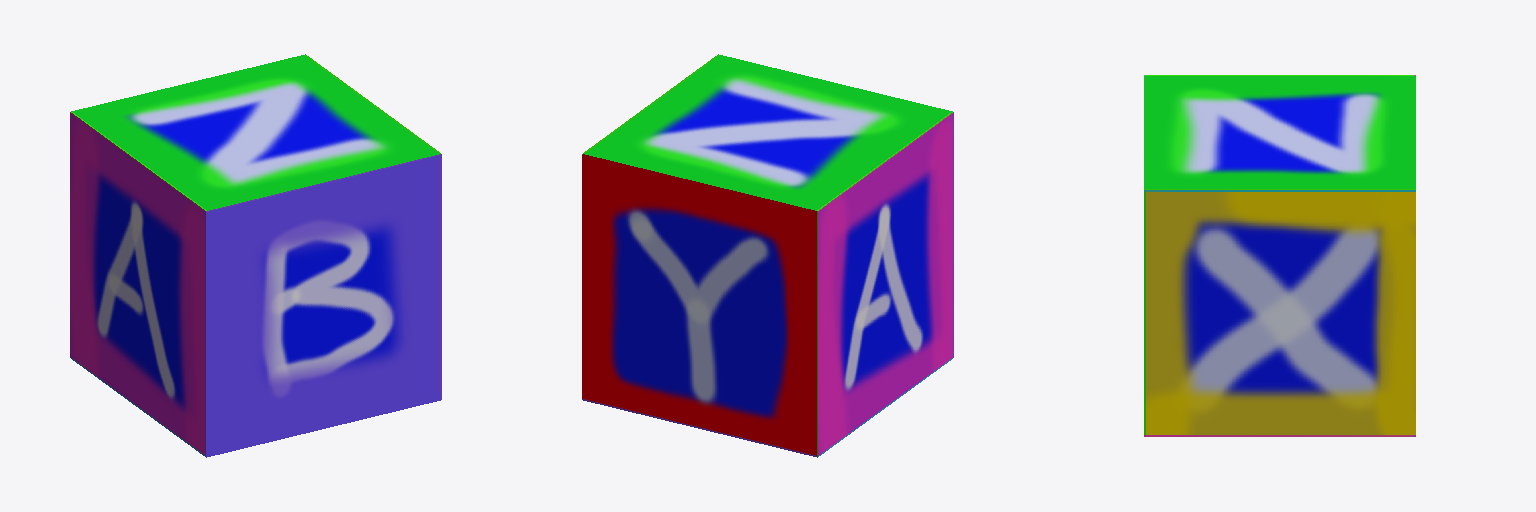
The picture shows the model from 3 angles: view 1: azimuth 30°, elevation 25°; view 2: azimuth 150°, elevation 25°; view 3: azimuth 270°, elevation 25°; orthographic projection.
Parts seen in each view (by area): view 1: Cube; view 2: Cube; view 3: Cube.
Boxes of the visible parts, box(x1,y1,x2,y2) form: Cube: box(70, 54, 441, 457); Cube: box(582, 54, 953, 457); Cube: box(1144, 75, 1415, 436).
Bounding box in the file's own units: 2 × 2 × 2.
Materials: 1 (1 with a texture image).